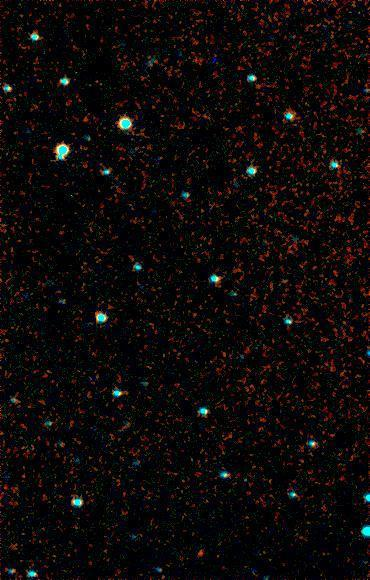star: (188, 539, 218, 569)
